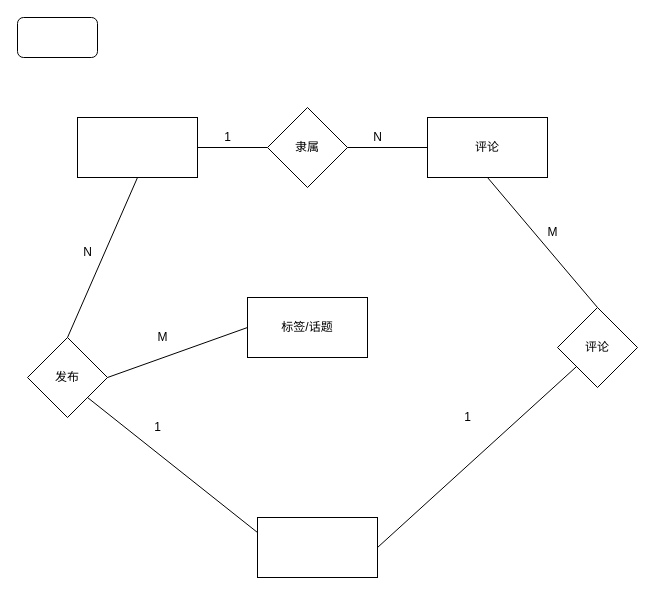
Image size: 655x595. Some labels were removed from this diagram. Here are the shapes that lost their labels. From the top down, the centre of each, then its label:
At point 137,147: "帖子".
At point 317,547: "用户".
